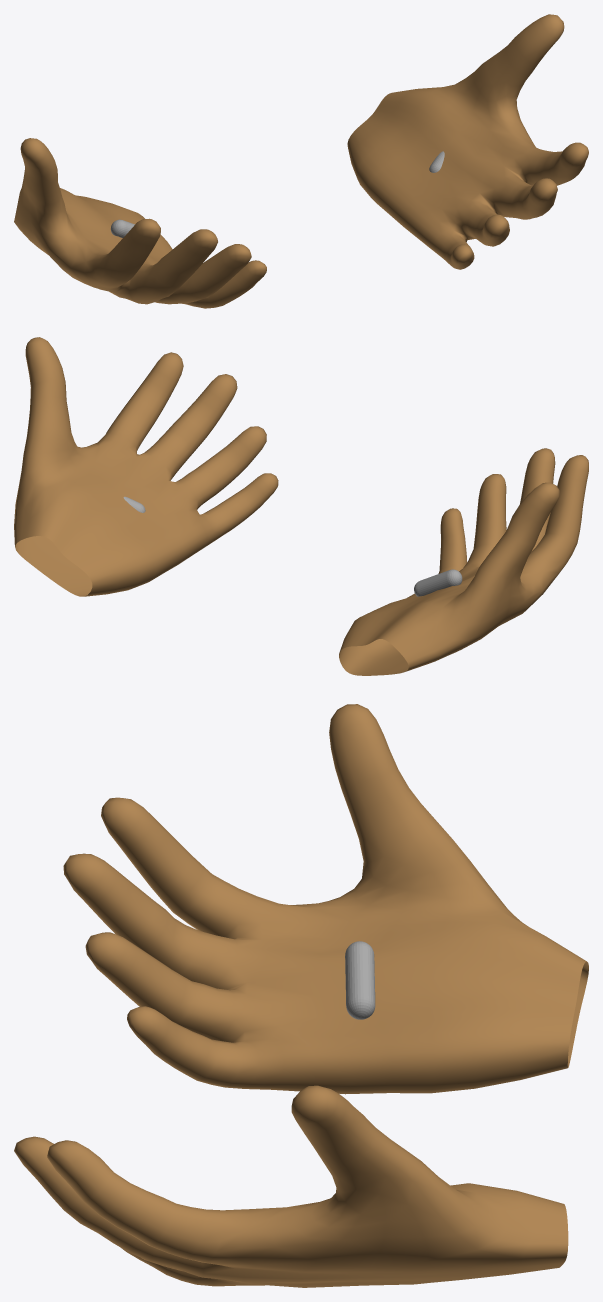
The model's file is hand.obj.
3 renders of one model, top to bottom at view 1: azimuth 30°, elevation 25°; view 2: azimuth 150°, elevation 25°; view 3: azimuth 270°, elevation 25°, orthographic. The views are drawn at different scales.
Visible parts, largest first — view 1: Cube.000, Cube.002; view 2: Cube.000, Cube.002, Sphere; view 3: Cube.002, Cube.000, Sphere.
Part boxes in pixels (bbox=[...]): Cube.000: bbox=[347, 14, 588, 269]; Cube.002: bbox=[14, 138, 266, 308]; Cube.000: bbox=[14, 337, 278, 596]; Cube.002: bbox=[339, 448, 588, 675]; Sphere: bbox=[414, 569, 462, 596]; Cube.002: bbox=[63, 704, 588, 1094]; Cube.000: bbox=[14, 1085, 568, 1287]; Sphere: bbox=[345, 941, 375, 1019].
Bounding box in the file's own units: 2.68 × 0.913 × 1.58.
